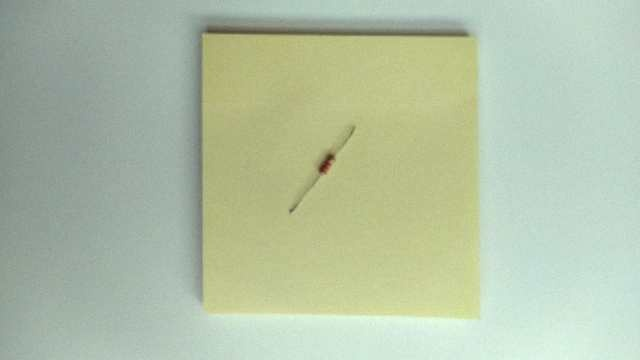resistor: (319, 156, 335, 175)
